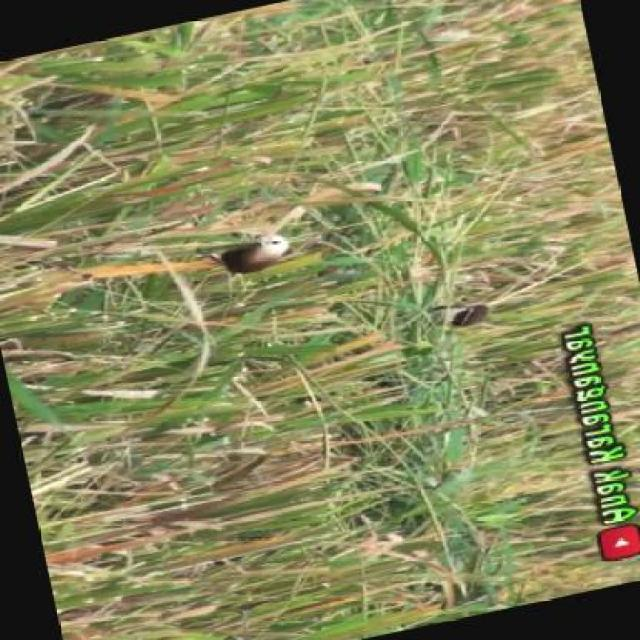Bird: (220, 226, 296, 284), (451, 299, 498, 332)
